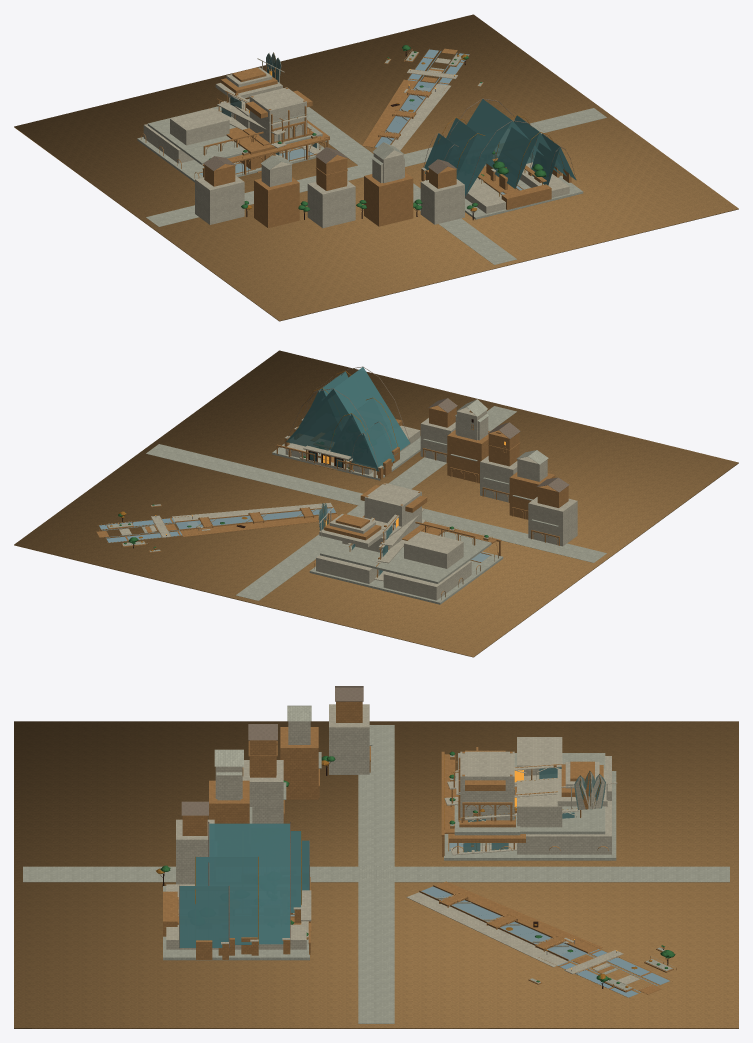
The model's file is nakaniwa-lod2.glb.
3 renders of one model, top to bottom at view 1: azimuth 30°, elevation 25°; view 2: azimuth 150°, elevation 25°; view 3: azimuth 270°, elevation 25°, orthographic. The views are drawn at different scales.
Parts seen in each view (by area): view 1: HB_nakaniwa_LOD2_A21R6_CITY_terrain, HB_nakaniwa_LOD2_A21R6_CITY_wall, HB_nakaniwa_LOD2_A21R6_CITY_wall_warm, HB_nakaniwa_LOD2_LANDMARK_1_glass, HB_nakaniwa_LOD2_LANDMARK_0_wall, HB_nakaniwa_LOD2_A21R6_CITY_wall_cool, HB_nakaniwa_LOD2_LANDMARK_0_wall_warm, HB_nakaniwa_LOD2_LANDMARK_0_wall_cool, HB_nakaniwa_LOD2_LANDMARK_1_wall_warm, HB_nakaniwa_LOD2_LANDMARK_1_wall, HB_nakaniwa_LOD2_A21R6_CITY_water, HB_nakaniwa_LOD2_LANDMARK_1_wall_cool (+1 smaller); view 2: HB_nakaniwa_LOD2_A21R6_CITY_terrain, HB_nakaniwa_LOD2_A21R6_CITY_wall_cool, HB_nakaniwa_LOD2_LANDMARK_0_wall, HB_nakaniwa_LOD2_A21R6_CITY_wall_warm, HB_nakaniwa_LOD2_LANDMARK_1_glass, HB_nakaniwa_LOD2_A21R6_CITY_wall, HB_nakaniwa_LOD2_LANDMARK_0_wall_cool, HB_nakaniwa_LOD2_LANDMARK_0_wall_warm, HB_nakaniwa_LOD2_A21R6_CITY_water, HB_nakaniwa_LOD2_LANDMARK_1_wall, HB_nakaniwa_LOD2_LANDMARK_1_wall_warm, HB_nakaniwa_LOD2_LANDMARK_1_wall_cool (+1 smaller); view 3: HB_nakaniwa_LOD2_A21R6_CITY_terrain, HB_nakaniwa_LOD2_A21R6_CITY_wall_cool, HB_nakaniwa_LOD2_LANDMARK_1_glass, HB_nakaniwa_LOD2_LANDMARK_0_wall, HB_nakaniwa_LOD2_A21R6_CITY_wall, HB_nakaniwa_LOD2_A21R6_CITY_wall_warm, HB_nakaniwa_LOD2_LANDMARK_0_wall_cool, HB_nakaniwa_LOD2_LANDMARK_0_wall_warm, HB_nakaniwa_LOD2_A21R6_CITY_water, HB_nakaniwa_LOD2_LANDMARK_1_wall_warm, HB_nakaniwa_LOD2_LANDMARK_1_wall, HB_nakaniwa_LOD2_LANDMARK_1_wall_cool (+2 smaller).
Part boxes in pixels (x1=…): HB_nakaniwa_LOD2_A21R6_CITY_terrain: x1=14, y1=14, x2=738, y2=321; HB_nakaniwa_LOD2_A21R6_CITY_wall: x1=195, y1=50, x2=464, y2=228; HB_nakaniwa_LOD2_A21R6_CITY_wall_warm: x1=204, y1=48, x2=483, y2=228; HB_nakaniwa_LOD2_LANDMARK_1_glass: x1=424, y1=99, x2=575, y2=196; HB_nakaniwa_LOD2_LANDMARK_0_wall: x1=143, y1=53, x2=321, y2=163; HB_nakaniwa_LOD2_A21R6_CITY_wall_cool: x1=146, y1=51, x2=606, y2=264; HB_nakaniwa_LOD2_LANDMARK_0_wall_warm: x1=141, y1=52, x2=329, y2=178; HB_nakaniwa_LOD2_LANDMARK_0_wall_cool: x1=137, y1=98, x2=324, y2=182; HB_nakaniwa_LOD2_LANDMARK_1_wall_warm: x1=421, y1=151, x2=571, y2=209; HB_nakaniwa_LOD2_LANDMARK_1_wall: x1=421, y1=148, x2=569, y2=213; HB_nakaniwa_LOD2_A21R6_CITY_water: x1=375, y1=49, x2=469, y2=147; HB_nakaniwa_LOD2_LANDMARK_1_wall_cool: x1=424, y1=156, x2=583, y2=219; HB_nakaniwa_LOD2_A21R6_CITY_terrain: x1=14, y1=350, x2=738, y2=657; HB_nakaniwa_LOD2_A21R6_CITY_wall_cool: x1=101, y1=399, x2=606, y2=600; HB_nakaniwa_LOD2_LANDMARK_0_wall: x1=316, y1=483, x2=471, y2=600; HB_nakaniwa_LOD2_A21R6_CITY_wall_warm: x1=96, y1=405, x2=568, y2=552; HB_nakaniwa_LOD2_LANDMARK_1_glass: x1=286, y1=367, x2=410, y2=471; HB_nakaniwa_LOD2_A21R6_CITY_wall: x1=106, y1=407, x2=577, y2=546; HB_nakaniwa_LOD2_LANDMARK_0_wall_cool: x1=309, y1=529, x2=503, y2=604; HB_nakaniwa_LOD2_LANDMARK_0_wall_warm: x1=314, y1=483, x2=501, y2=599; HB_nakaniwa_LOD2_A21R6_CITY_water: x1=99, y1=508, x2=335, y2=542; HB_nakaniwa_LOD2_LANDMARK_1_wall: x1=285, y1=418, x2=420, y2=474; HB_nakaniwa_LOD2_LANDMARK_1_wall_warm: x1=276, y1=419, x2=402, y2=480; HB_nakaniwa_LOD2_LANDMARK_1_wall_cool: x1=272, y1=436, x2=420, y2=480; HB_nakaniwa_LOD2_A21R6_CITY_terrain: x1=14, y1=721, x2=738, y2=1028; HB_nakaniwa_LOD2_A21R6_CITY_wall_cool: x1=23, y1=705, x2=729, y2=1023; HB_nakaniwa_LOD2_LANDMARK_1_glass: x1=179, y1=823, x2=309, y2=947; HB_nakaniwa_LOD2_LANDMARK_0_wall: x1=444, y1=737, x2=617, y2=855; HB_nakaniwa_LOD2_A21R6_CITY_wall: x1=176, y1=704, x2=675, y2=989; HB_nakaniwa_LOD2_A21R6_CITY_wall_warm: x1=182, y1=701, x2=676, y2=998; HB_nakaniwa_LOD2_LANDMARK_0_wall_cool: x1=444, y1=753, x2=616, y2=860; HB_nakaniwa_LOD2_LANDMARK_0_wall_warm: x1=441, y1=747, x2=608, y2=856; HB_nakaniwa_LOD2_A21R6_CITY_water: x1=421, y1=886, x2=669, y2=997; HB_nakaniwa_LOD2_LANDMARK_1_wall_warm: x1=163, y1=877, x2=311, y2=959; HB_nakaniwa_LOD2_LANDMARK_1_wall: x1=166, y1=884, x2=311, y2=949; HB_nakaniwa_LOD2_LANDMARK_1_wall_cool: x1=163, y1=886, x2=309, y2=960.
Bounding box in the file's own units: 320 × 49.68 × 320.
12 materials, 9 textured.
